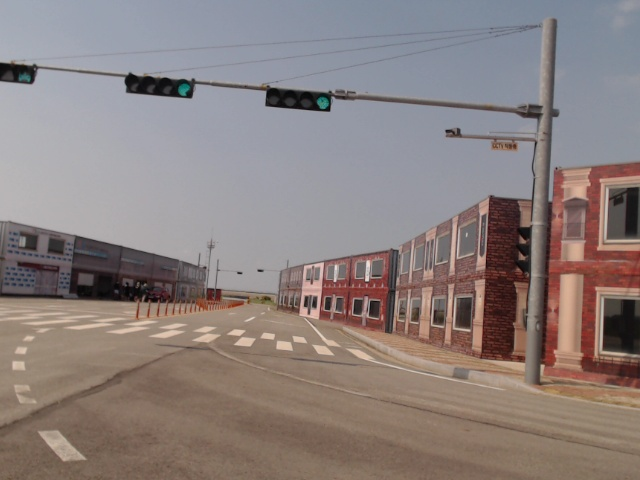straight_green_4: (127, 73, 195, 98), (265, 90, 331, 111)
